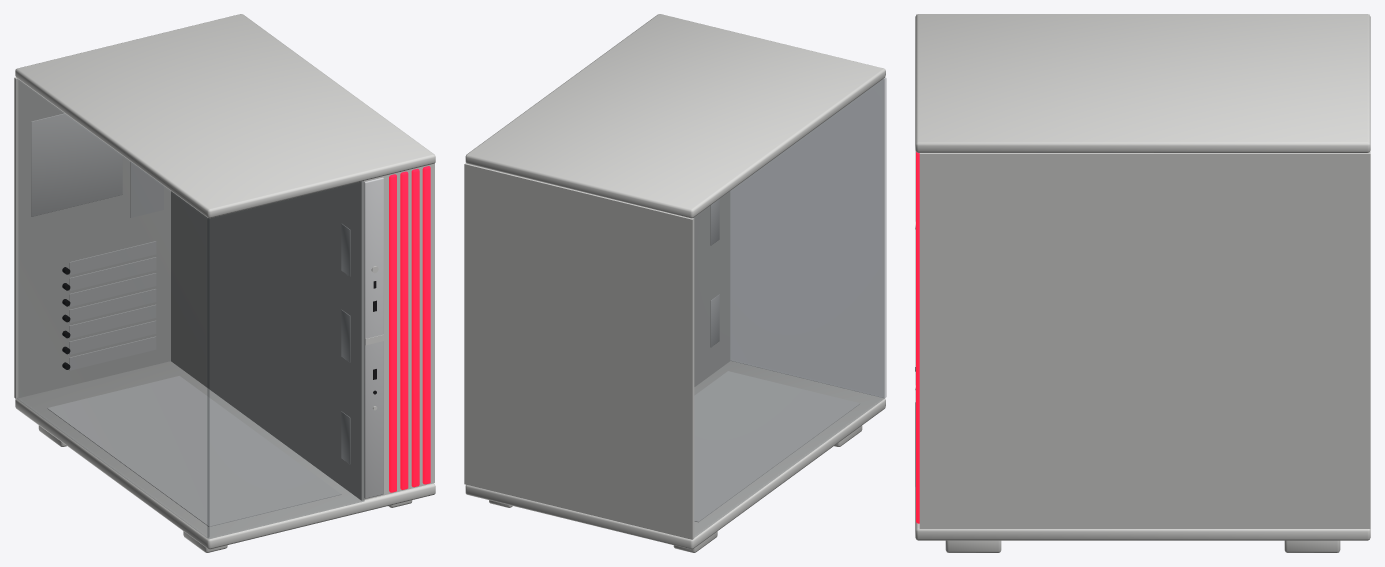
3 views of the same model, side by side, from view 1: azimuth 30°, elevation 25°; view 2: azimuth 150°, elevation 25°; view 3: azimuth 270°, elevation 25° (orthographic). The views are drawn at different scales.
Visible parts, largest first — view 1: case_lb600_body, case_glass_pane.002, case_front_glass_pane.001; view 2: case_lb600_body, case_glass_pane.002, case_front_glass_pane.001; view 3: case_lb600_body.
Part boxes in pixels (box(x1,y1,x2,y2)): case_lb600_body: box(14, 14, 435, 552); case_glass_pane.002: box(16, 79, 208, 537); case_front_glass_pane.001: box(207, 181, 364, 538); case_lb600_body: box(464, 14, 885, 552); case_glass_pane.002: box(694, 79, 884, 537); case_front_glass_pane.001: box(731, 78, 886, 397); case_lb600_body: box(915, 14, 1370, 552).
Size of the model in its own units: 0.305 by 0.455 by 0.45.
